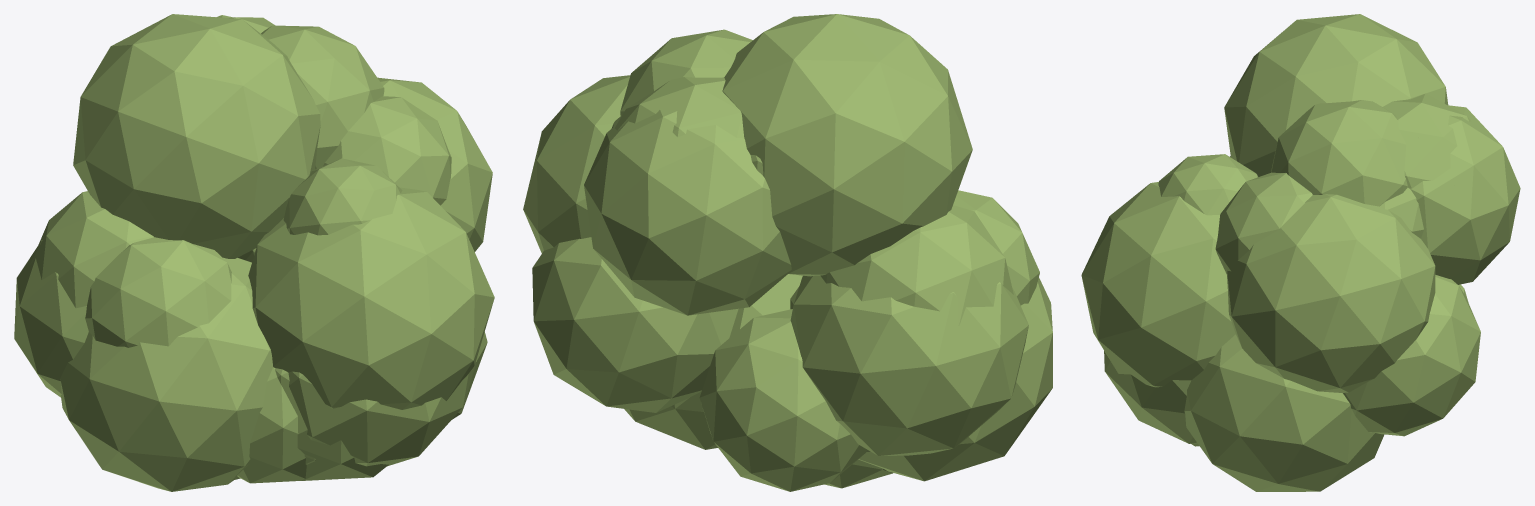
File: Bush_Field_4.fbx
3 views of the same model, side by side, from view 1: azimuth 30°, elevation 25°; view 2: azimuth 150°, elevation 25°; view 3: azimuth 270°, elevation 25° (orthographic). The views are drawn at different scales.
Visible parts, largest first — view 1: Bush_1; view 2: Bush_1; view 3: Bush_1.
Boxes of the visible parts, x1,y1,x2,y2 form: Bush_1: (14,14,494,491); Bush_1: (523,14,1052,491); Bush_1: (1081,14,1520,491).
Size of the model in its own units: 113 by 108 by 107.
